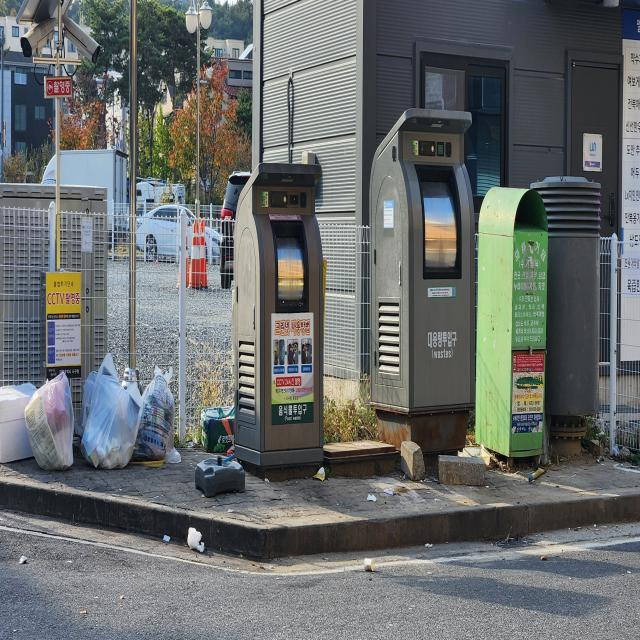CleanNet: (363, 94, 480, 416), (230, 167, 326, 460)
General Waste: (2, 347, 237, 499)
